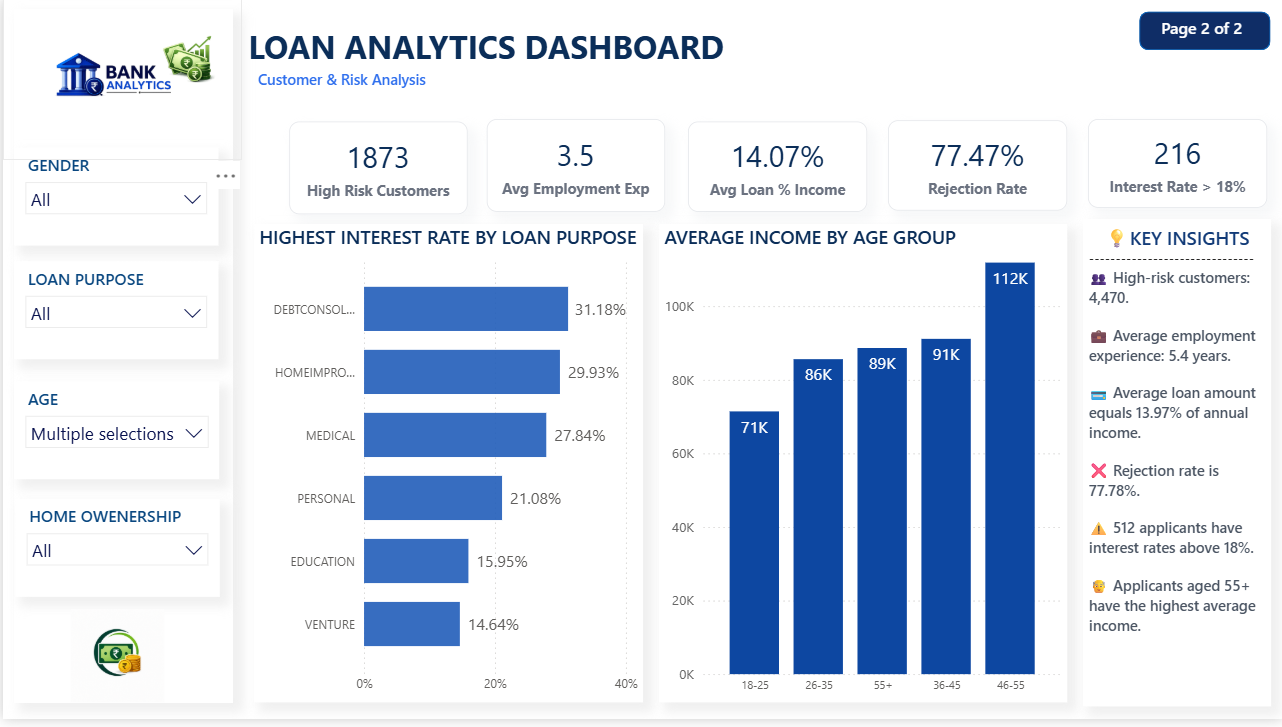

The dashboard page shown, as its layout file describes it:
{"tool":"powerbi","page":{"name":"Duplicate of Page 1","canvas":[1280,720],"ordinal":1},"visuals":[{"type":"textbox","box":[215.6,20.8,536.4,55.8],"z":0},{"type":"textbox","box":[249.7,65.1,299.2,31.4],"z":1000},{"type":"card","fields":{"Values":["loan_data (1).High Interest Loans"]},"box":[1084.8,120,179.4,89.1],"z":2000},{"type":"card","title":"Total Applicants","fields":{"Values":["loan_data (1).Rejection Rate"]},"box":[884.4,121.2,179.4,90.3],"z":3000},{"type":"card","title":"Total Applicants","fields":{"Values":["loan_data (1).Avg Employment Experience"]},"box":[483.7,120,178.1,92.8],"z":4000},{"type":"card","title":"Total Applicants","fields":{"Values":["loan_data (1).High Risk Customers"]},"box":[285.7,122.5,178.1,92.8],"z":5000},{"type":"card","title":"Total Applicants","fields":{"Values":["loan_data (1).Avg Loan % Income"]},"box":[685.3,122.5,179.4,90.3],"z":6000},{"type":"shape","box":[11.7,10.4,219.5,693.5],"z":7000},{"type":"slicer","fields":{"Values":["loan_data (1).person_gender"]},"box":[11.2,148.8,203.8,97.5],"z":8000},{"type":"slicer","fields":{"Values":["loan_data (1).Loan Purpose Display"]},"box":[11.2,262.5,203.8,97.5],"z":9000},{"type":"slicer","fields":{"Values":["loan_data (1).person_age"]},"box":[11.2,382.5,205,97.5],"z":10000},{"type":"slicer","fields":{"Values":["loan_data (1).person_home_ownership"]},"box":[12.5,500,203.8,97.5],"z":11000},{"type":"image","box":[0,0,239,161],"z":12000},{"type":"clusteredBarChart","title":"HIGHEST INTEREST RATE BY LOAN PURPOSE","fields":{"Category":["loan_data (1).loan_intent"],"Y":["loan_data (1).Approval Ratee"]},"box":[250.7,225.1,388.8,478.3],"z":13000},{"type":"clusteredColumnChart","title":"AVERAGE INCOME BY AGE GROUP","fields":{"Category":["loan_data (1).Age Group"],"Y":["loan_data (1).Average Income"]},"box":[656.1,225.1,408,478.3],"z":14000},{"type":"textbox","box":[1079.5,220,188,487.3],"z":15000},{"type":"image","box":[41.2,610,146.2,93.8],"z":16000},{"type":"shape","title":"Page 2 of 2","box":[1136.2,12.5,131.2,38.8],"z":17000},{"type":"textbox","box":[1148.8,12.5,131.2,48.8],"z":18000}]}

Visuals, with their boxes in screenshot pixels (x1, y1, x2, y2), scaled from the page's 1280x720 canvas onto the 1282x727 screenshot:
textbox: bbox=[216, 21, 753, 77]
textbox: bbox=[250, 66, 550, 97]
card - loan_data (1).High Interest Loans: bbox=[1086, 121, 1266, 211]
"Total Applicants" card: bbox=[886, 122, 1065, 214]
"Total Applicants" card: bbox=[484, 121, 663, 215]
"Total Applicants" card: bbox=[286, 124, 465, 217]
"Total Applicants" card: bbox=[686, 124, 866, 215]
shape: bbox=[12, 11, 232, 711]
slicer - loan_data (1).person_gender: bbox=[11, 150, 215, 249]
slicer - loan_data (1).Loan Purpose Display: bbox=[11, 265, 215, 364]
slicer - loan_data (1).person_age: bbox=[11, 386, 217, 485]
slicer - loan_data (1).person_home_ownership: bbox=[13, 505, 217, 603]
image: bbox=[0, 0, 239, 163]
"HIGHEST INTEREST RATE BY LOAN PURPOSE" clusteredBarChart: bbox=[251, 227, 640, 710]
"AVERAGE INCOME BY AGE GROUP" clusteredColumnChart: bbox=[657, 227, 1066, 710]
textbox: bbox=[1081, 222, 1269, 714]
image: bbox=[41, 616, 188, 711]
"Page 2 of 2" shape: bbox=[1138, 13, 1269, 52]
textbox: bbox=[1151, 13, 1281, 62]
